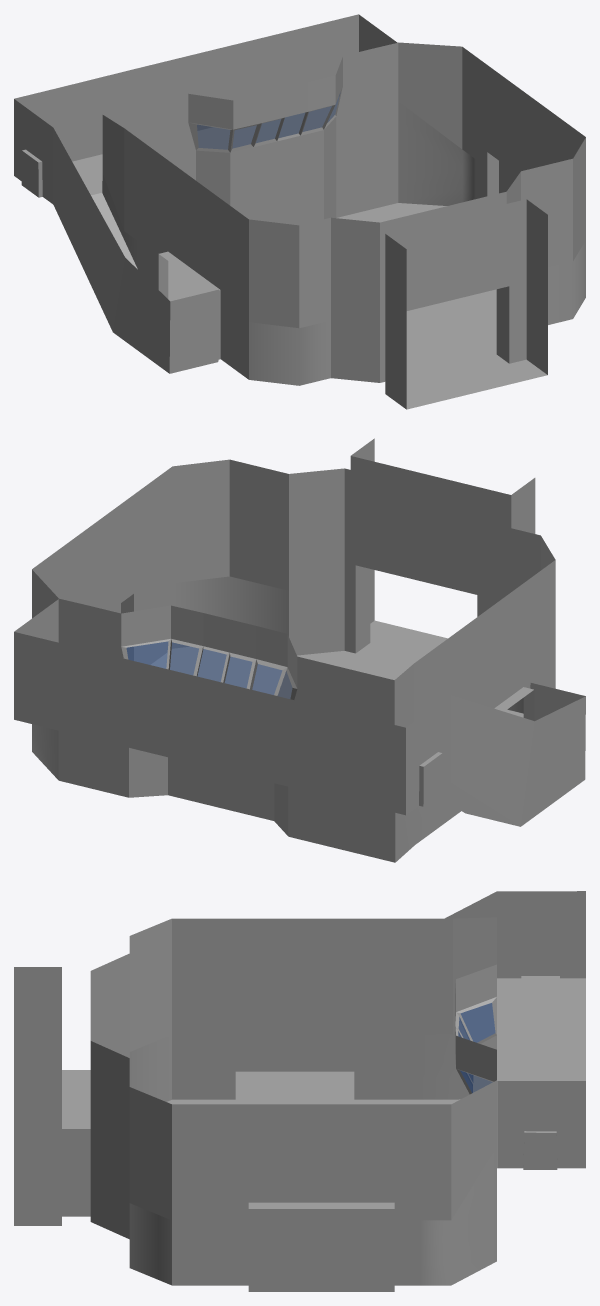
File: PH_Lab_01.fbx
3 views of the same model, one above another, from view 1: azimuth 30°, elevation 25°; view 2: azimuth 150°, elevation 25°; view 3: azimuth 270°, elevation 25° (orthographic). The views are drawn at different scales.
Parts seen in each view (by area): view 1: polySurface24; view 2: polySurface24; view 3: polySurface24.
Part boxes in pixels (<box>): polySurface24: <box>14,14,585,409</box>; polySurface24: <box>14,438,585,862</box>; polySurface24: <box>14,891,585,1291</box>.
Size of the model in its own units: 1148 by 438 by 1246.
